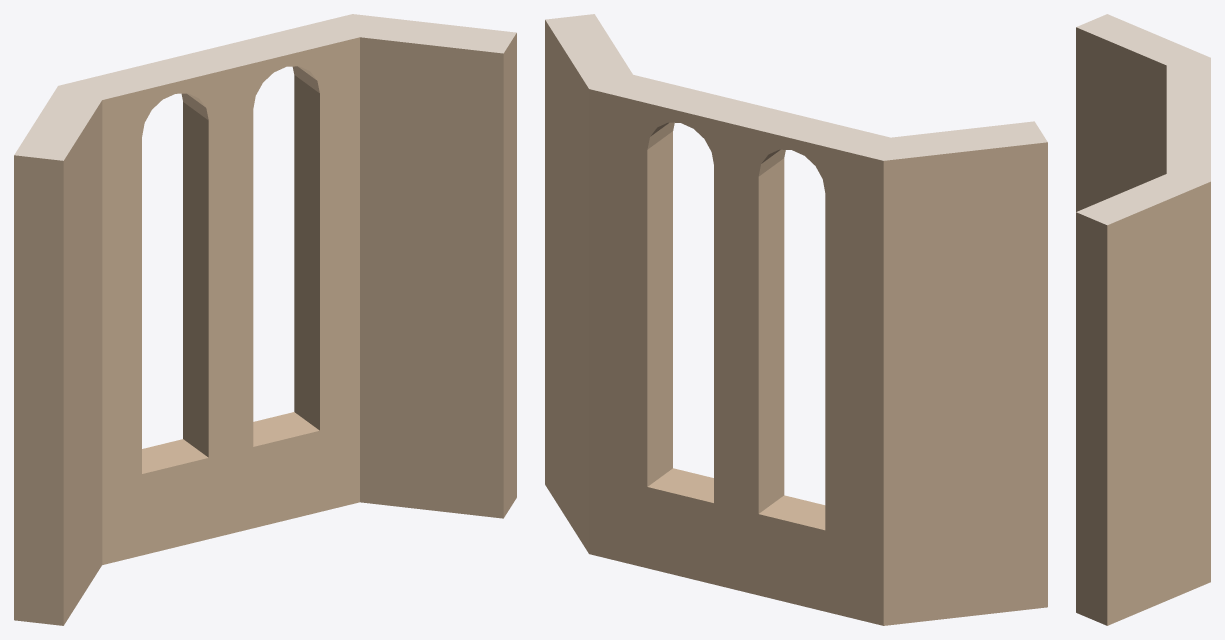
Rendered from Tower_Wall_Tall_Windows.fbx.
The picture shows the model from 3 angles, left to right: view 1: azimuth 30°, elevation 25°; view 2: azimuth 150°, elevation 25°; view 3: azimuth 270°, elevation 25°; orthographic projection. The views are drawn at different scales.
Visible parts, largest first — view 1: Sandstone_Trim.object1, Sandstone_Floor; view 2: Sandstone_Trim.object1, Sandstone_Floor; view 3: Sandstone_Trim.object1, Sandstone_Floor.
Boxes of the visible parts, x1=… form: Sandstone_Trim.object1: x1=14, y1=33, x2=516, y2=625; Sandstone_Floor: x1=14, y1=14, x2=516, y2=160; Sandstone_Trim.object1: x1=545, y1=20, x2=1047, y2=625; Sandstone_Floor: x1=545, y1=14, x2=1047, y2=160; Sandstone_Trim.object1: x1=1076, y1=27, x2=1210, y2=625; Sandstone_Floor: x1=1076, y1=14, x2=1210, y2=225.
Size of the model in its own units: 2.26 by 2 by 0.6101.
